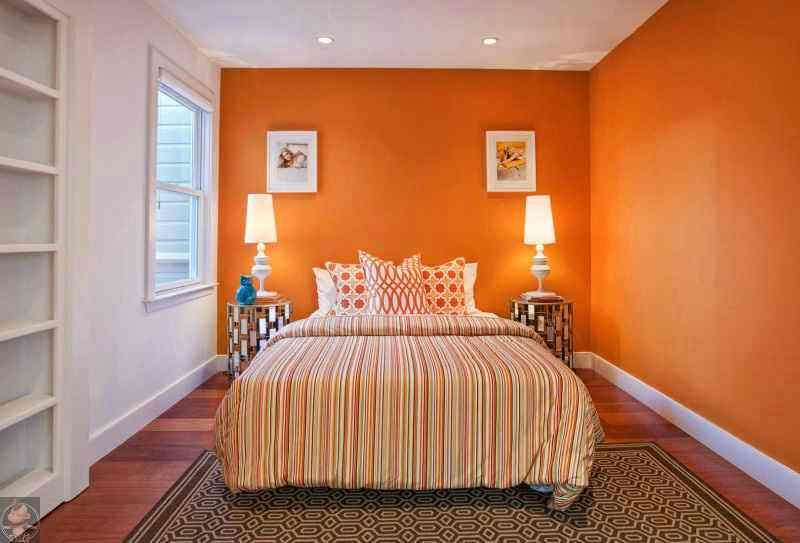床: (207, 301, 586, 509)
枕头: (309, 254, 474, 322)
灯: (516, 190, 556, 303), (238, 191, 278, 303), (310, 34, 333, 49), (476, 36, 499, 49)
